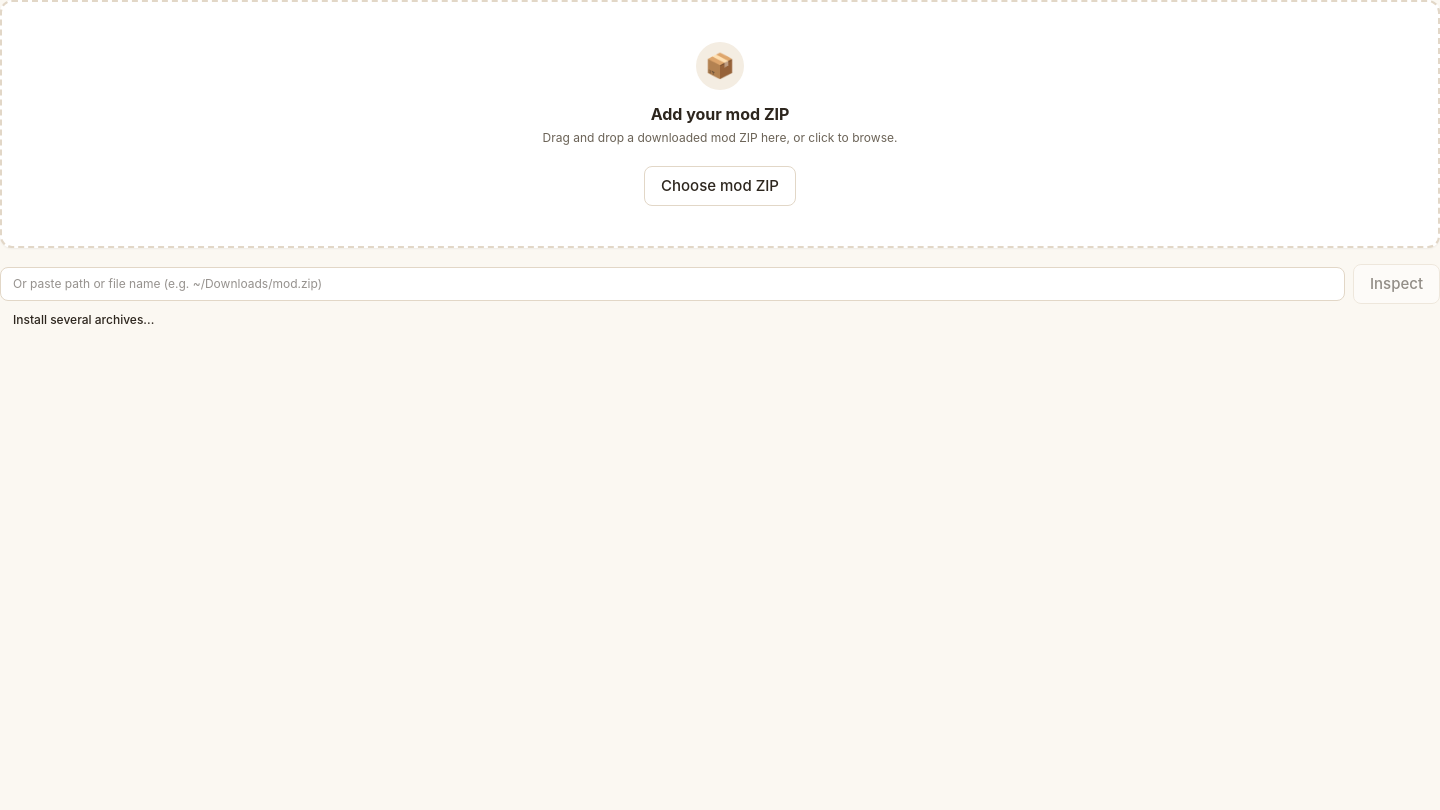
structured error presentation › shows the backend summary and offers a fresh preview when the plan is stale
This screenshot has width=1440, height=810.
In the field with placeholder "Or paste path or file name (e.g. ~/Downloads/mod.zip)": (672, 284) [0,267,1345,301], type "/home/user/Downloads/ExampleMod.zip"
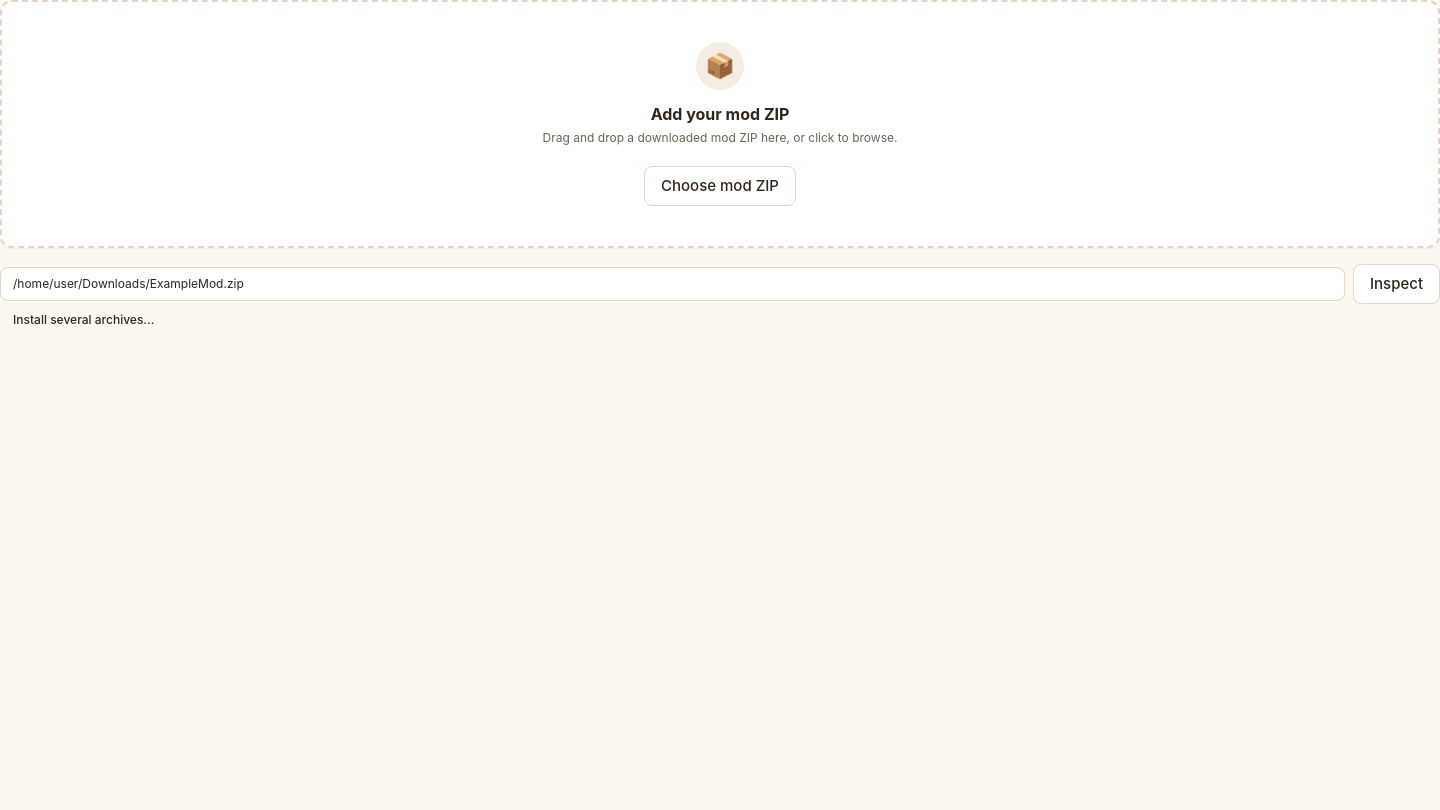
Click the button "Inspect": (1396, 284) [1353,264,1439,304]
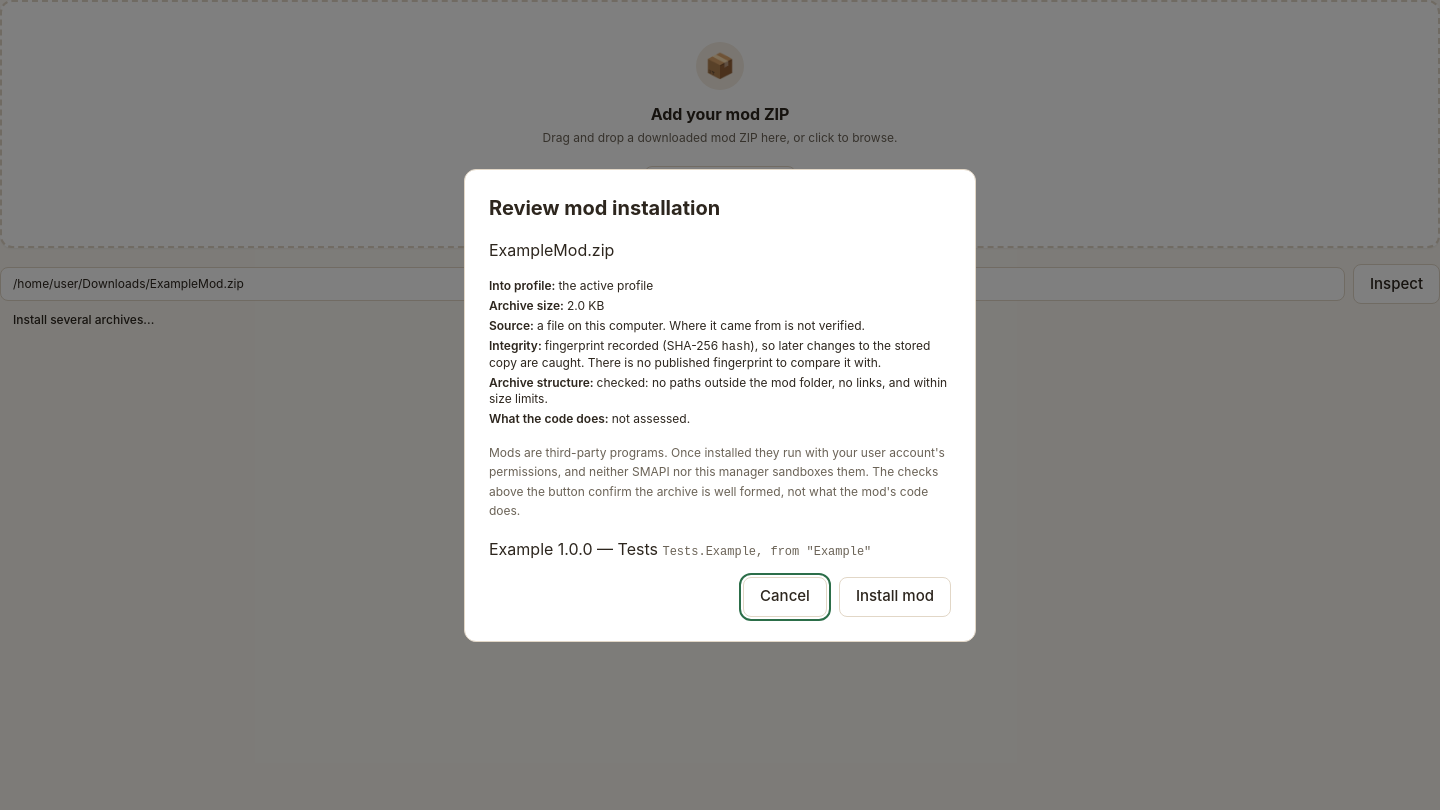
Click the button "Install mod": (895, 596) [839,576,951,616]
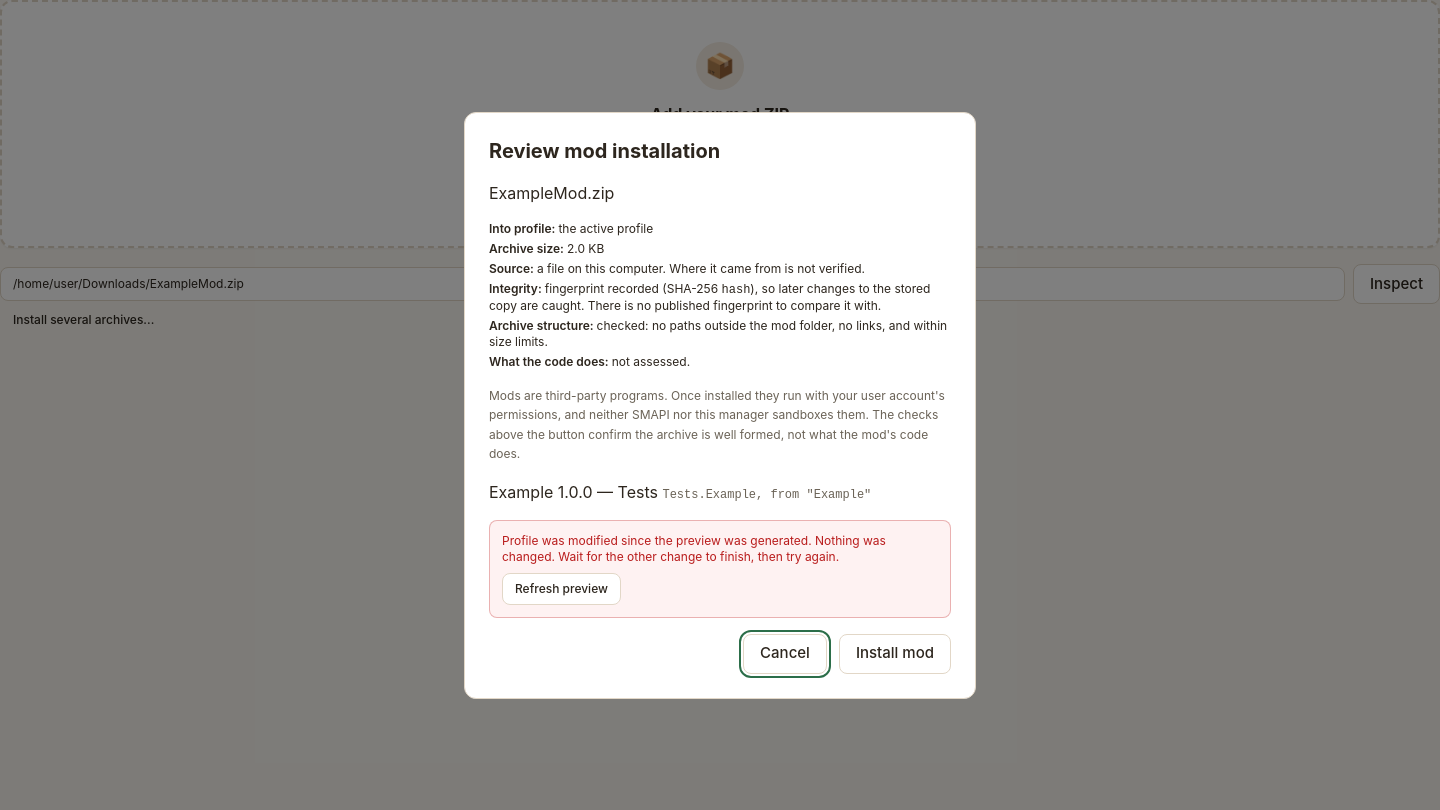
Expected: the message does not show "Expected profile revision 7", [489,520,951,618]
Result: the message shows "Profile was modified since the preview was generated" at [502,532,886,564]
Click the button "Refresh preview": (561, 588) [502,572,621,604]
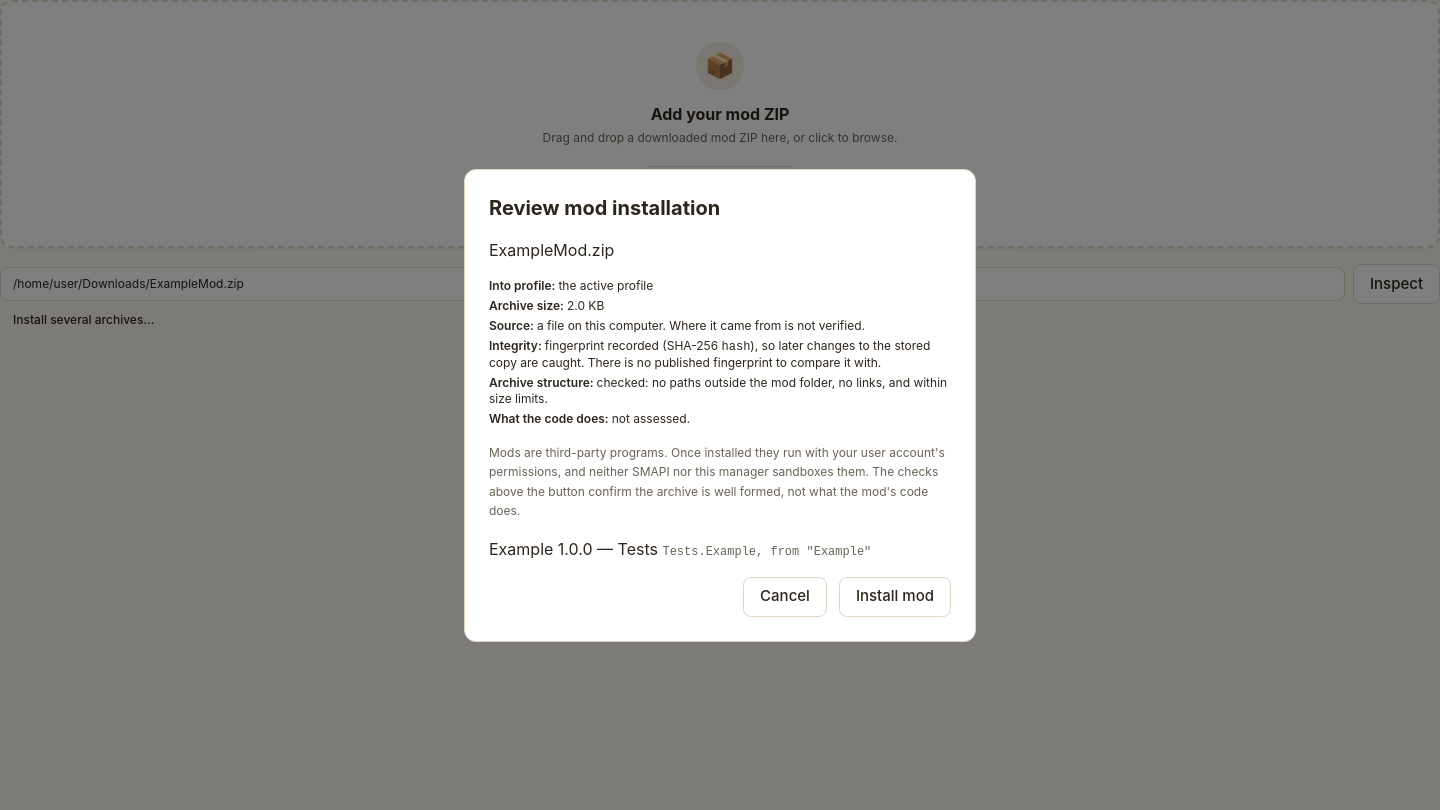
Result: the message "Profile was modified since the preview was generated. Nothing was changed. Wait" is gone
